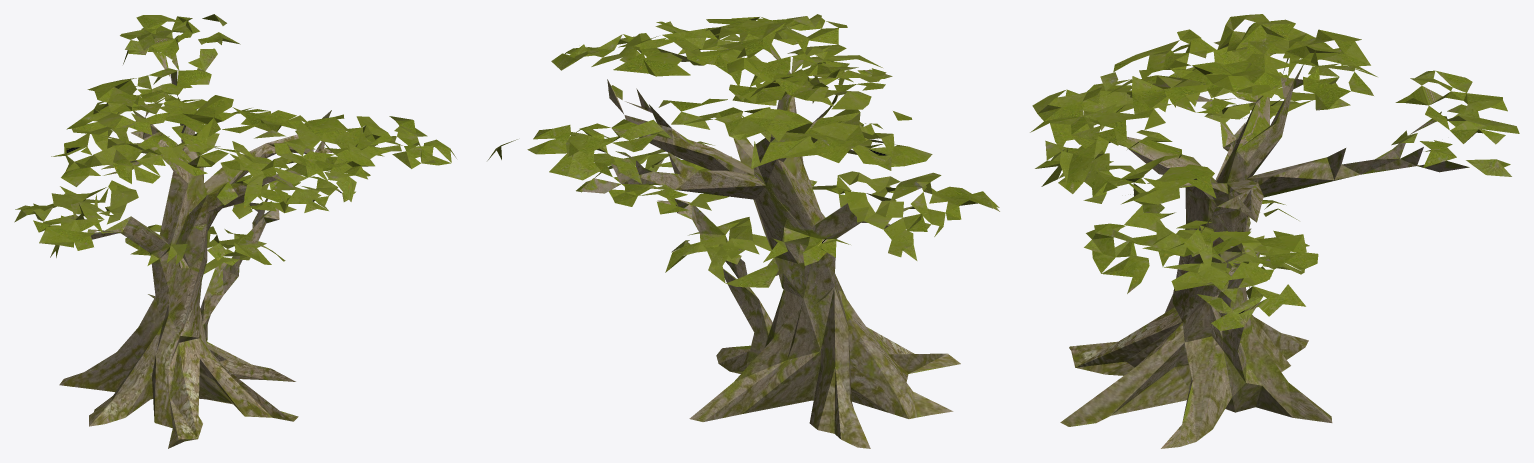
The model's file is ea_vaultwood.glb.
The picture shows the model from 3 angles, left to right: view 1: azimuth 30°, elevation 25°; view 2: azimuth 150°, elevation 25°; view 3: azimuth 270°, elevation 25°; orthographic projection. The views are drawn at different scales.
Parts seen in each view (by area): view 1: output_unwrapped; view 2: output_unwrapped; view 3: output_unwrapped.
Part boxes in pixels (x1,y1,x2,y2): output_unwrapped: (14, 14, 456, 448); output_unwrapped: (487, 14, 999, 448); output_unwrapped: (1030, 14, 1519, 448).
Bounding box in the file's own units: 1.79 × 1.23 × 1.55.
Materials: 1 (1 with a texture image).
